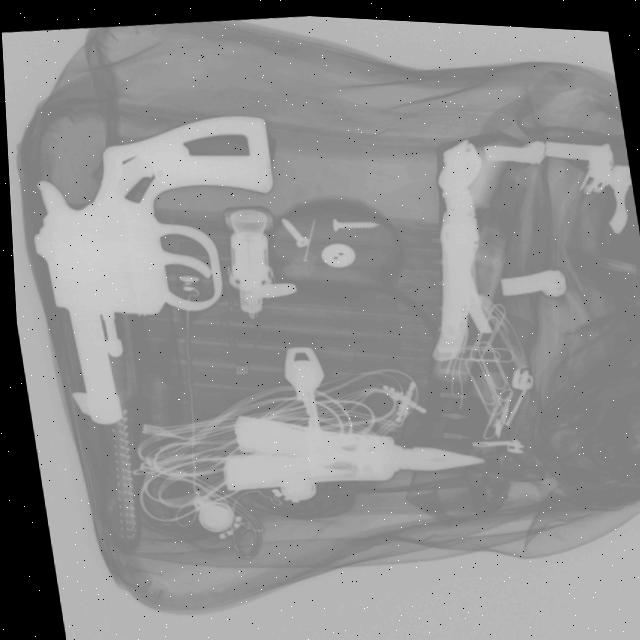pistol: (10, 98, 306, 436)
